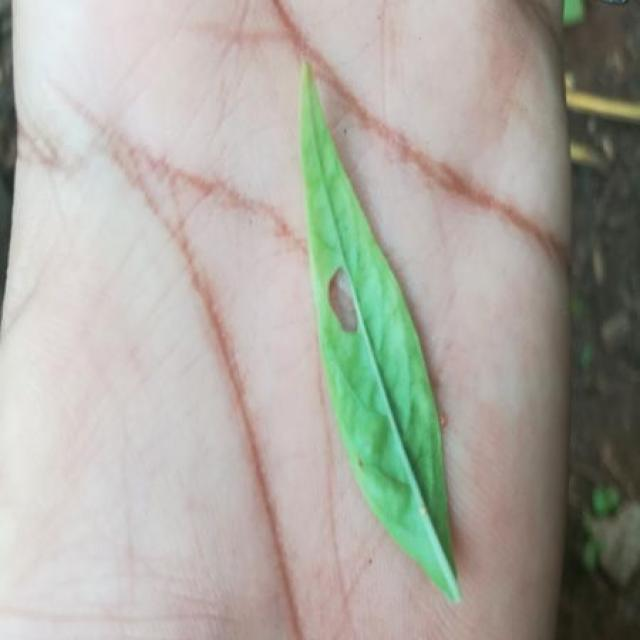Nelavembu: (300, 65, 458, 601)
